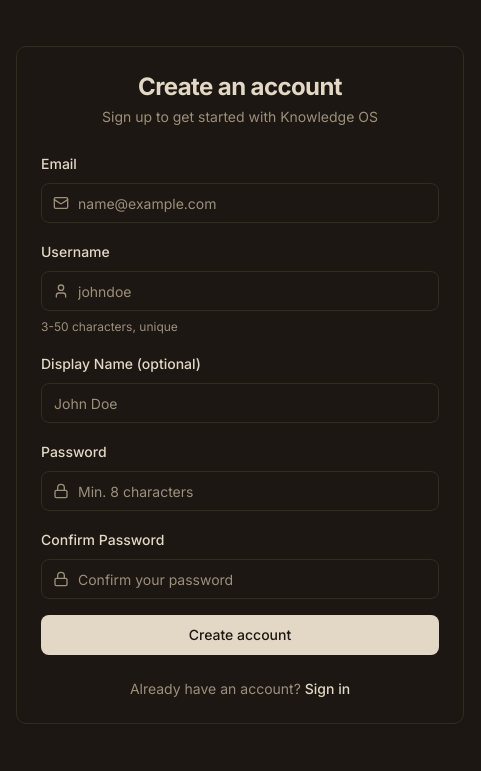
it: LoginPage › Register Mode › validates password length
Type "test@example.com" into the field labelled "Email" at (240, 203), box [41, 183, 439, 223]
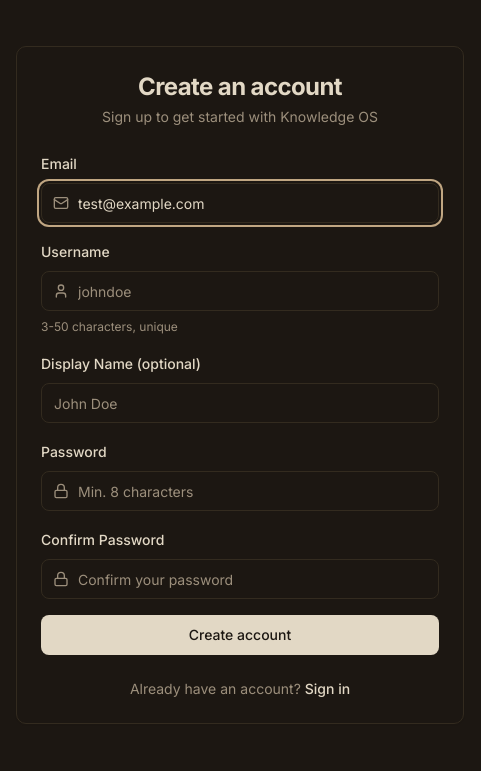
Type "testuser" into the field labelled "Username" at (240, 291), box [41, 271, 439, 311]
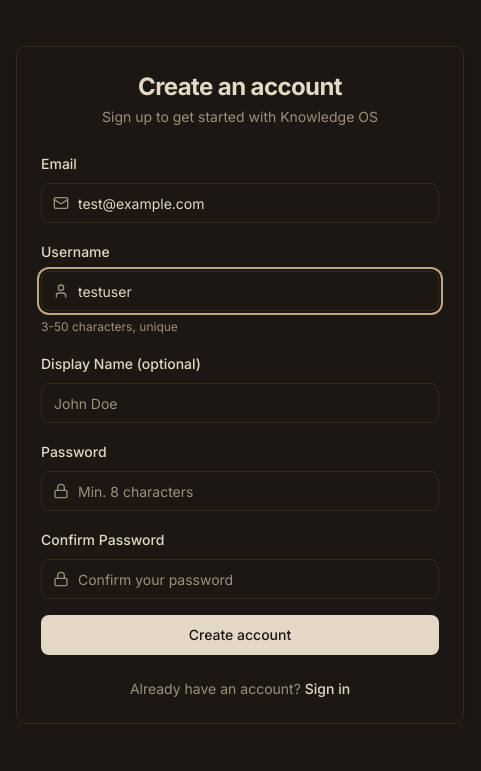
Type "short" into the password field labelled "Password" at (240, 491), box [41, 471, 439, 511]
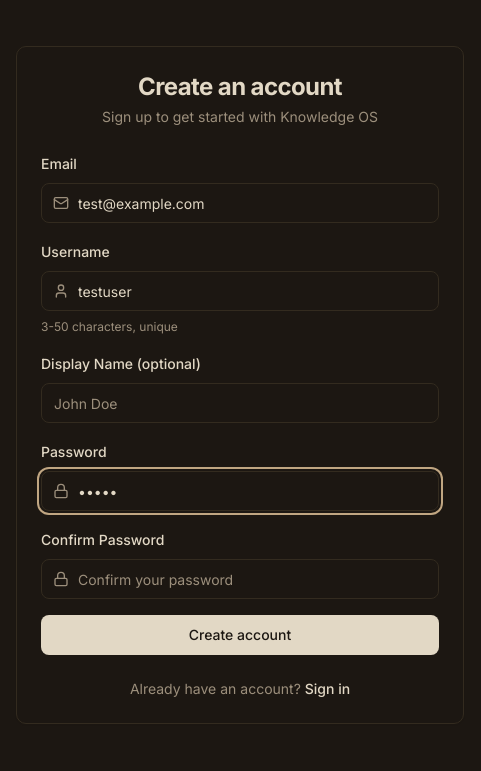
Type "short" into the password field labelled "Confirm Password" at (240, 579), box [41, 559, 439, 599]
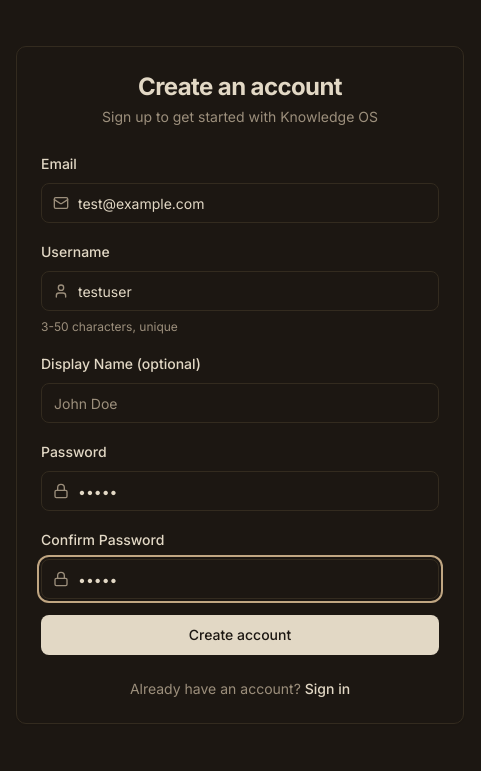
Click the button "Create account" at (240, 635), box [41, 615, 439, 655]
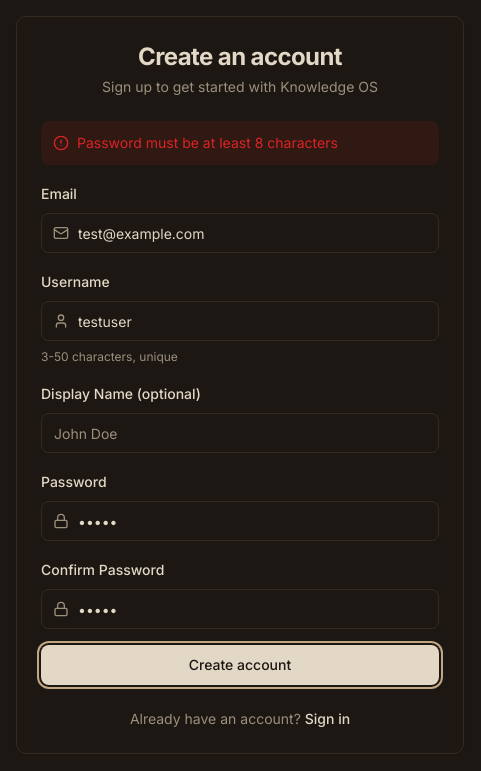
Expected: the text "Password must be at least 8 characters" is shown, [77, 133, 338, 153]
